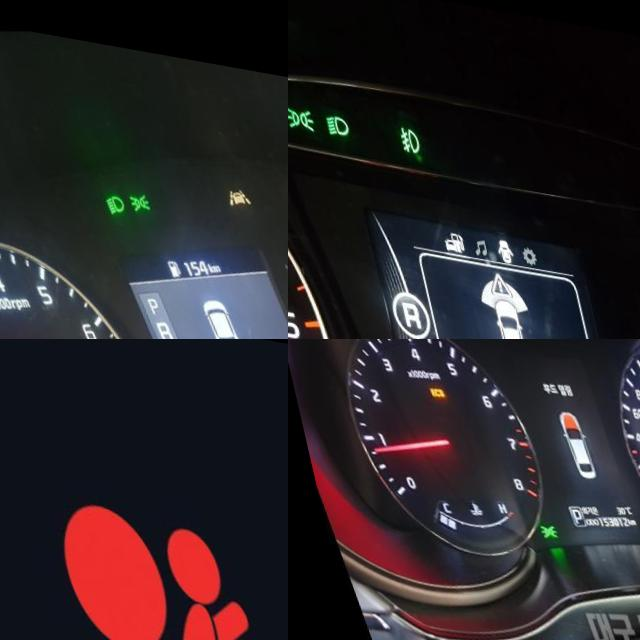FrontFogLight: (390, 114, 414, 146)
LaneCenteringOff: (216, 166, 245, 191)
Low beam: (93, 177, 120, 206), (317, 106, 343, 131)
SideLamp: (118, 175, 144, 201), (288, 98, 307, 127), (521, 512, 543, 533)
